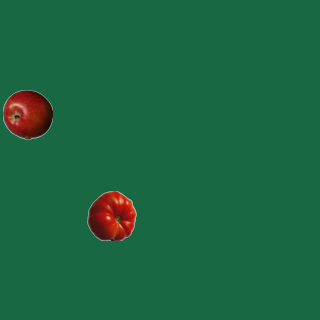Apple Braeburn: (2, 89, 52, 139)
Tomato 3: (86, 190, 136, 240)
